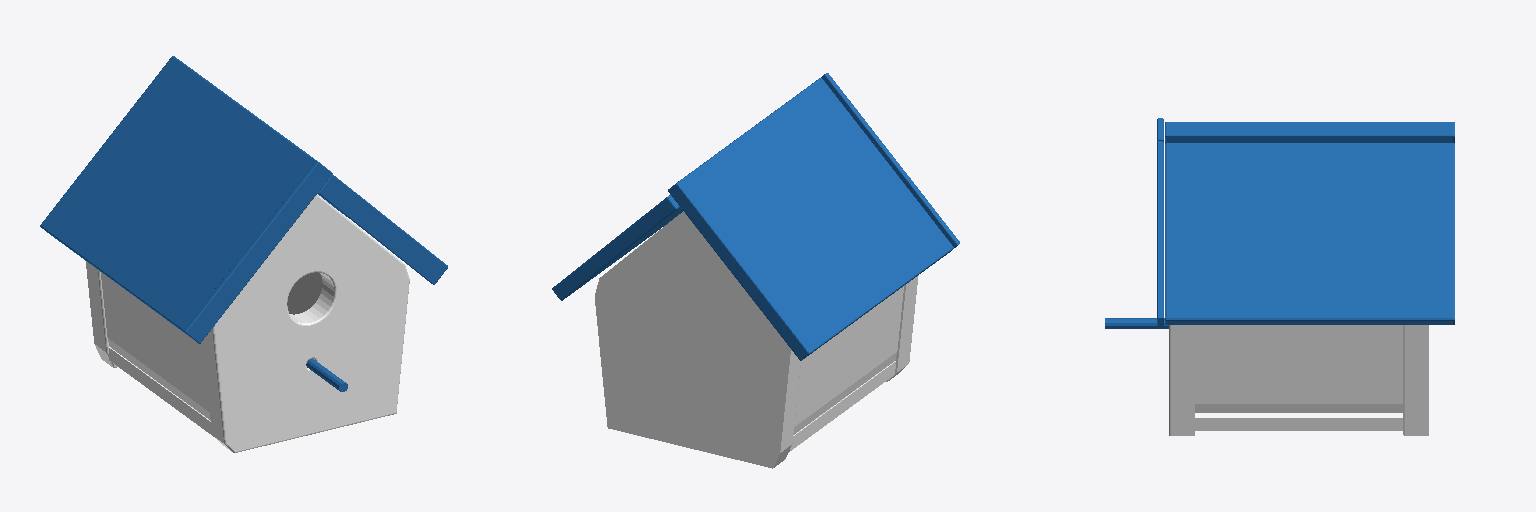
File: Bird House.obj
3 views of the same model, side by side, from view 1: azimuth 30°, elevation 25°; view 2: azimuth 150°, elevation 25°; view 3: azimuth 270°, elevation 25° (orthographic).
Parts seen in each view (by area): view 1: roof_left, Cap_1_3, Path_1, roof_left.1, Cube, front, Path_3, Rounding, BAck, Path_2; view 2: roof_left, Cap_2_4, Path_1, Cube.1, roof_left.1, Path_3, BAck, front; view 3: Cube.1, Path_2, roof_left, Path_3, front, BAck, Cube, Cylinder.
Boxes of the visible parts, x1,y1,x2,y2 form: roof_left: [40, 56, 314, 336]; Cap_1_3: [215, 196, 408, 451]; Path_1: [101, 272, 210, 420]; roof_left.1: [183, 160, 332, 343]; Cube: [318, 174, 447, 284]; front: [202, 273, 334, 451]; Path_3: [109, 347, 213, 436]; Rounding: [212, 194, 409, 452]; BAck: [86, 261, 112, 366]; Path_2: [287, 272, 322, 314]; roof_left: [668, 78, 953, 360]; Cap_2_4: [595, 211, 790, 468]; Path_1: [794, 286, 903, 434]; Cube.1: [552, 194, 682, 300]; roof_left.1: [821, 73, 959, 255]; Path_3: [790, 361, 895, 450]; BAck: [774, 350, 800, 467]; front: [889, 276, 917, 380]; Cube.1: [1165, 143, 1454, 324]; Path_2: [1195, 325, 1402, 412]; roof_left: [1165, 122, 1454, 142]; Path_3: [1195, 413, 1402, 430]; front: [1171, 325, 1194, 435]; BAck: [1405, 325, 1428, 435]; Cube: [1157, 141, 1163, 326]; Cylinder: [1105, 318, 1168, 328].
Size of the model in its own units: 220 by 222 by 254.